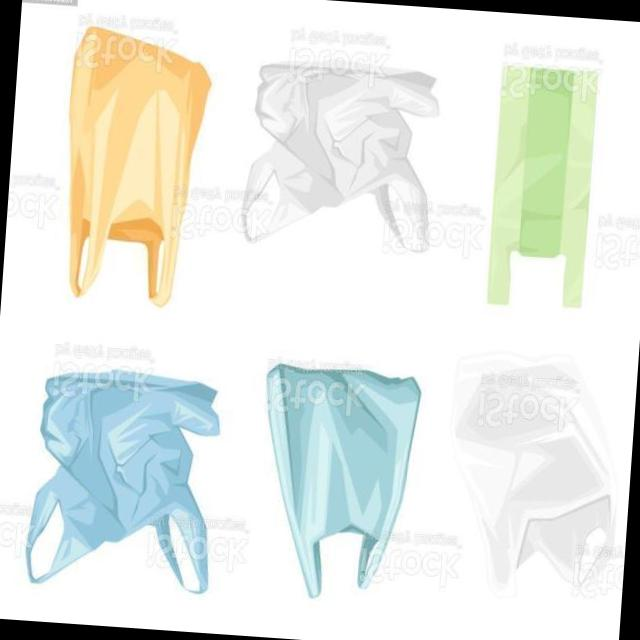KantongPlastik: (15, 356, 230, 598), (49, 18, 216, 318), (219, 60, 442, 263), (248, 362, 422, 606), (458, 46, 610, 322), (447, 364, 618, 596)
